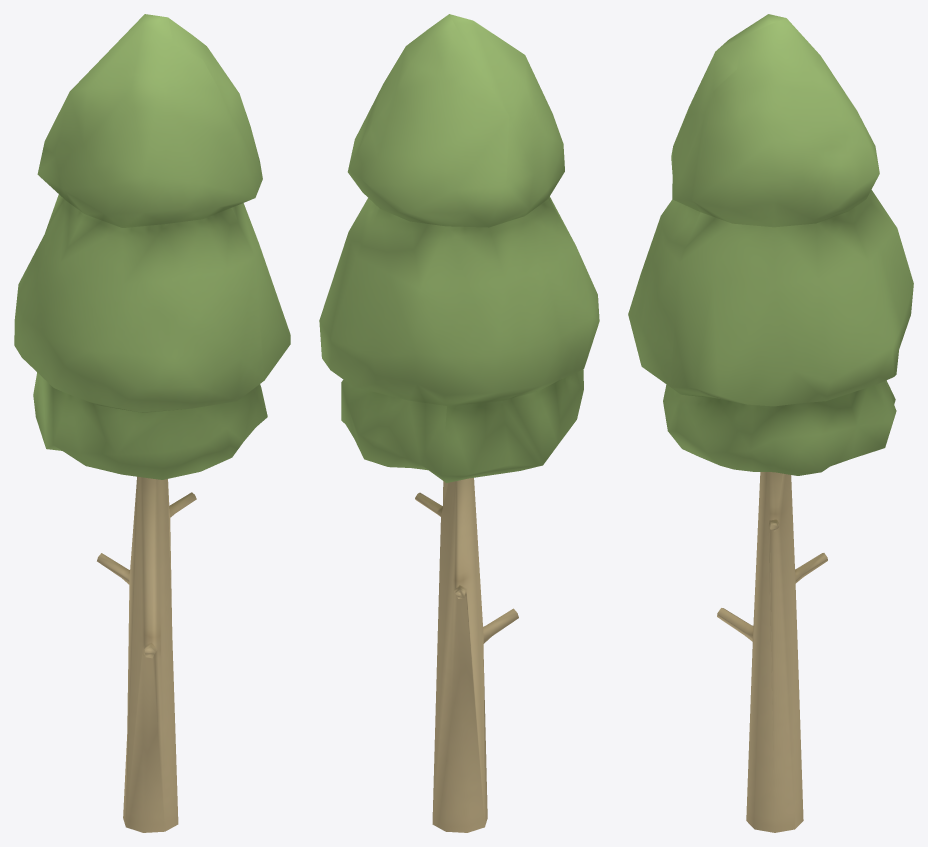
3 views of the same model, side by side, from view 1: azimuth 30°, elevation 25°; view 2: azimuth 150°, elevation 25°; view 3: azimuth 270°, elevation 25° (orthographic).
Parts seen in each view (by area): view 1: Sosna.001; view 2: Sosna.001; view 3: Sosna.001.
Boxes of the visible parts, bbox=[...] form: Sosna.001: bbox=[14, 14, 290, 832]; Sosna.001: bbox=[319, 14, 599, 832]; Sosna.001: bbox=[628, 14, 913, 832].
Bounding box in the file's own units: 6.16 × 20.37 × 6.57.
1 material, 1 textured.
